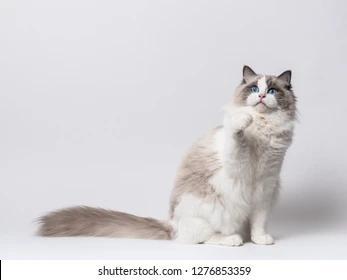ragdoll: (226, 58, 299, 127)
